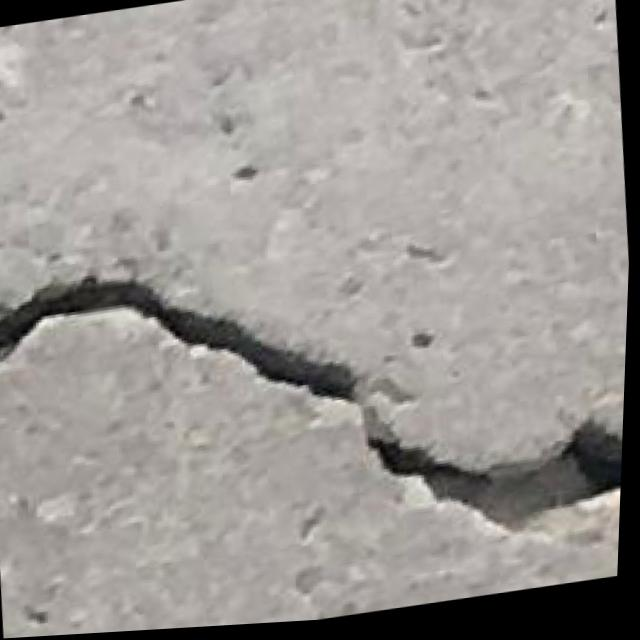Crack: (0, 199, 633, 624)
